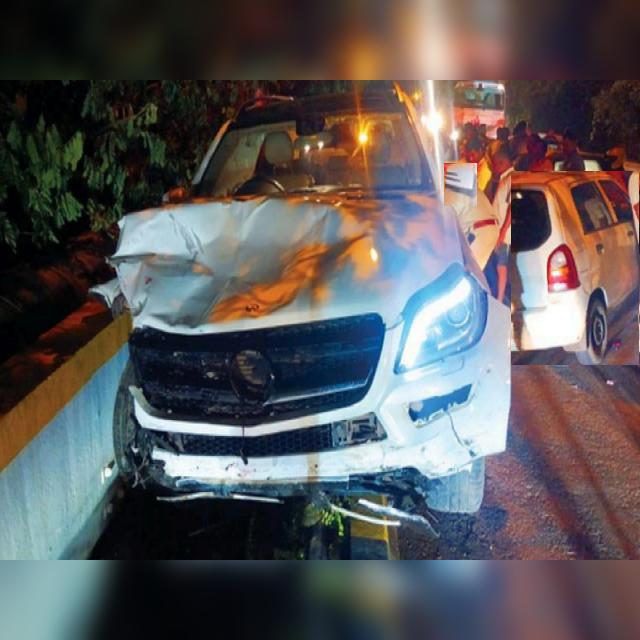accident: (100, 88, 511, 511), (445, 163, 477, 206)
car: (511, 171, 640, 365)
